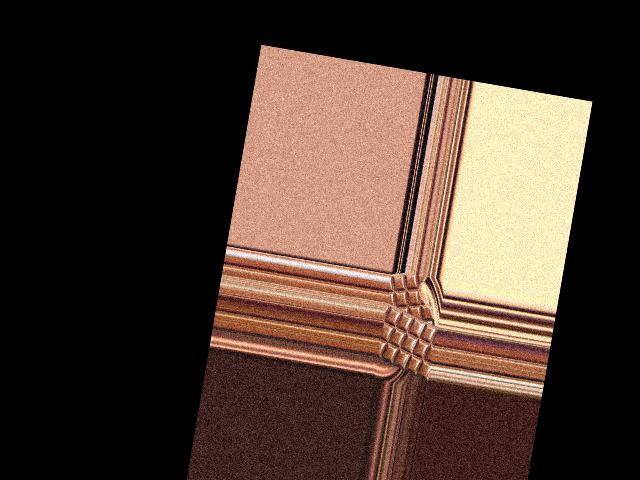chocolate: (373, 302, 439, 382)
